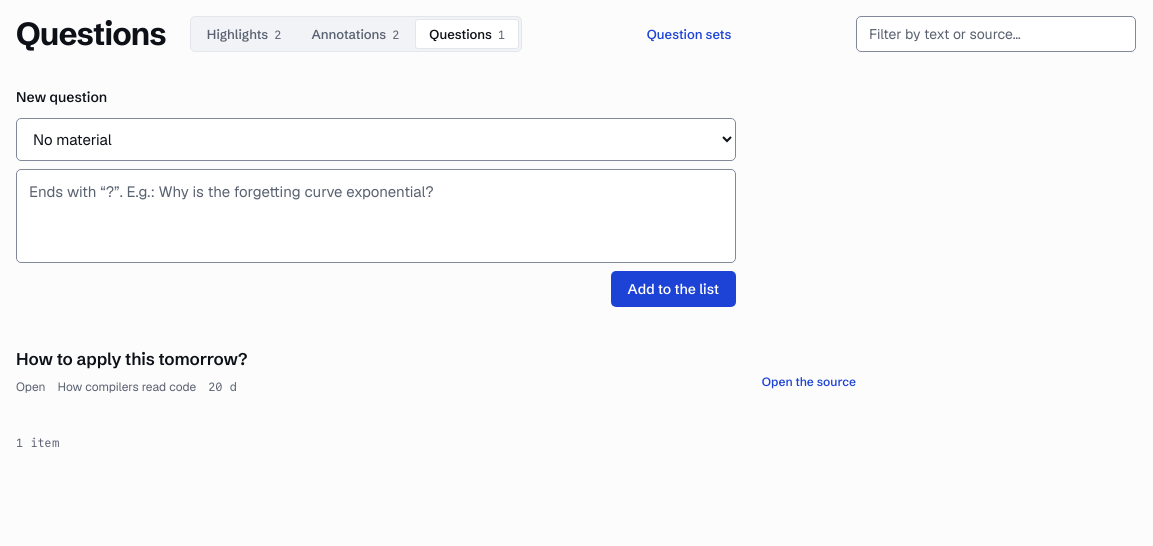
NotesView › writes a question with the item chosen rather than a hard-coded one
The width and height of the screenshot is (1153, 546).
Replace the text in the text box with id "new-question" with "A question with no ending" at (376, 216), box [16, 169, 736, 263]
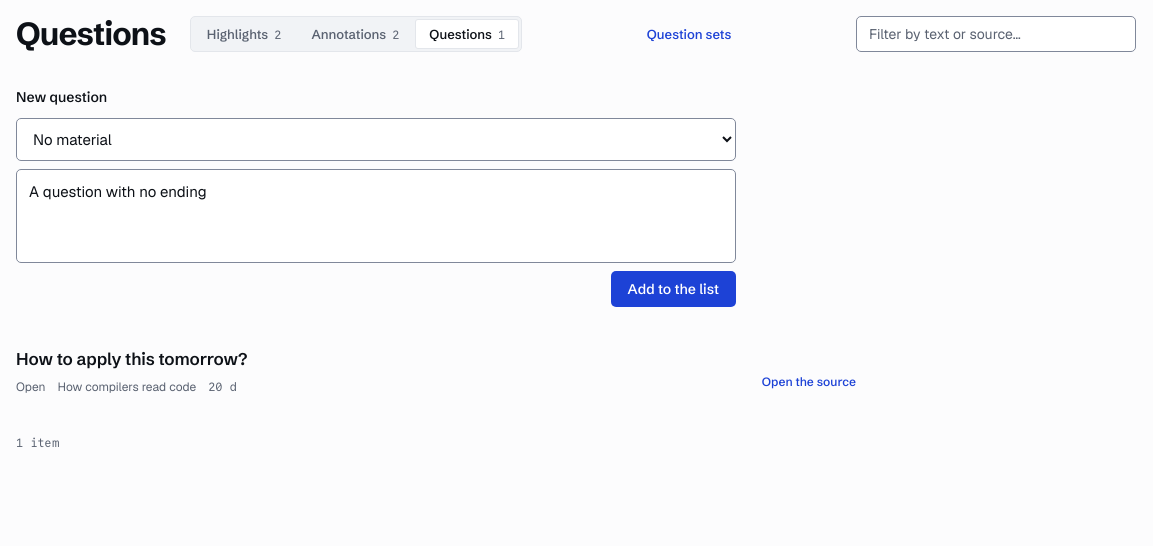
Submit the form, box [16, 84, 736, 307]
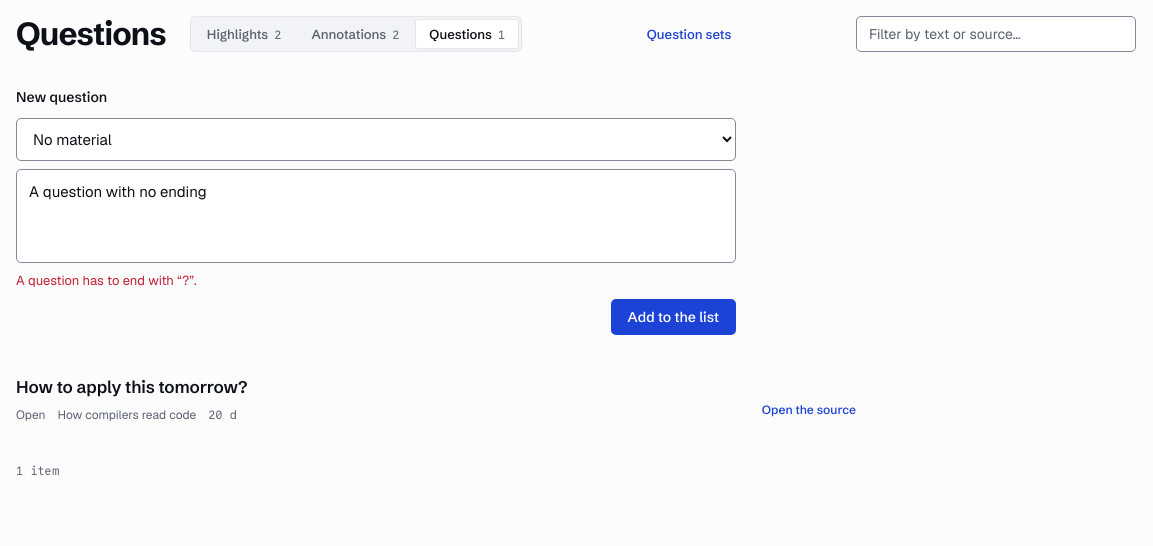
Result: the message "A question has to end with “?”." is shown at [16, 272, 197, 289]
Select "The digital garden" in the dropdown with id "new-question-item" at (376, 140), box [16, 118, 736, 161]
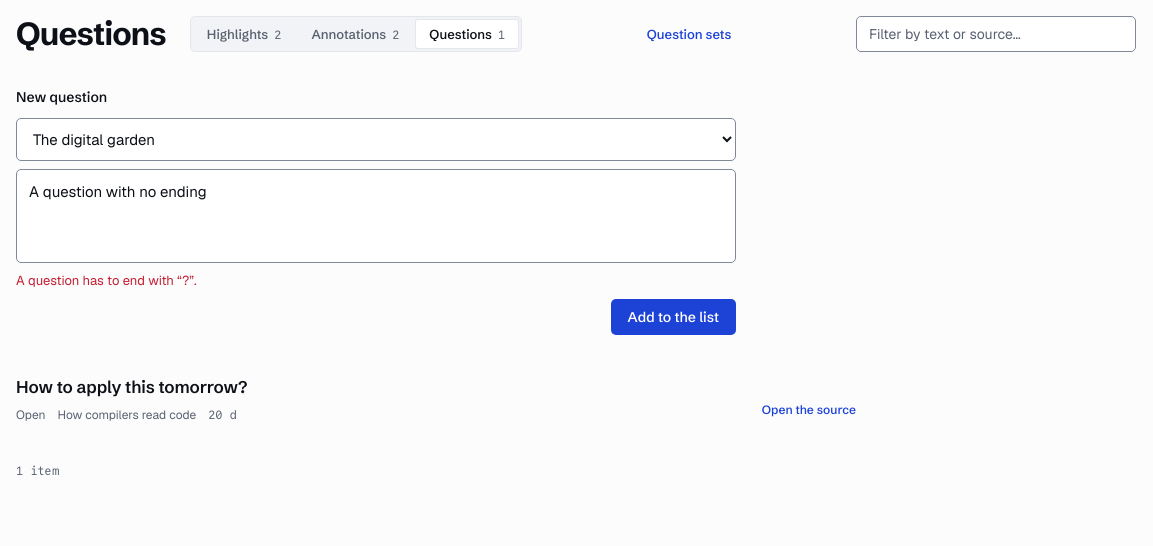
Replace the text in the text box with id "new-question" with "Why does logging examples help?" at (376, 216), box [16, 169, 736, 263]
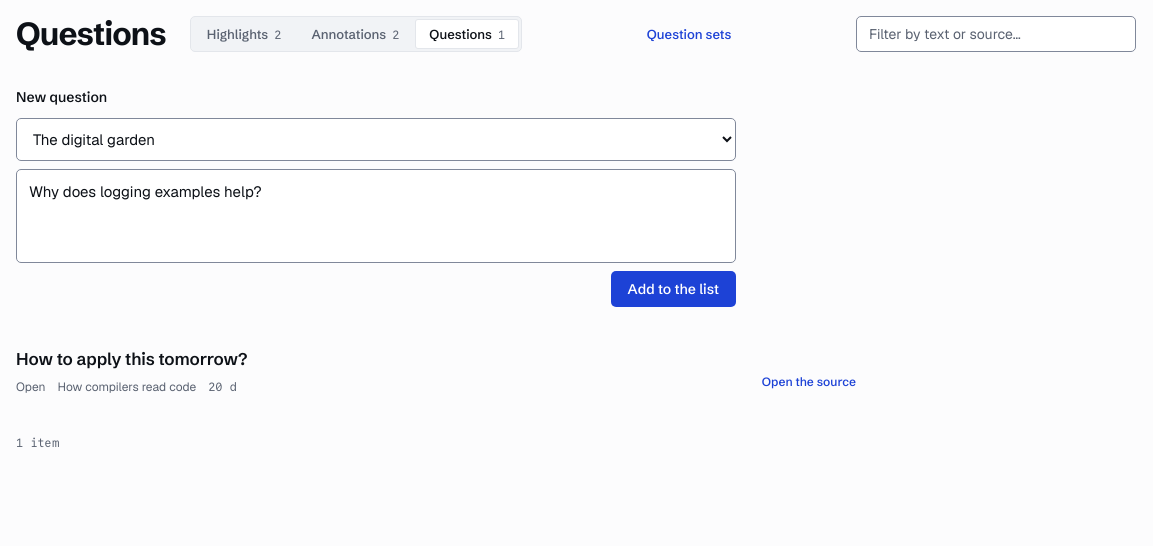
Submit the form, box [16, 84, 736, 307]
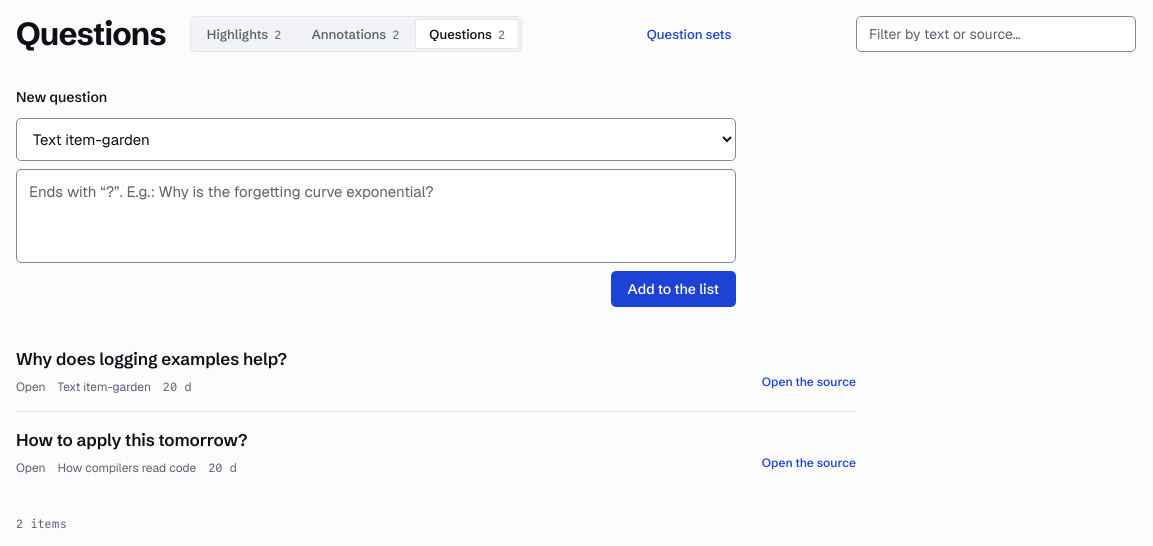
Result: the text with class "nt-q-text" reads "Why does logging examples help?" at [16, 348, 287, 369]
